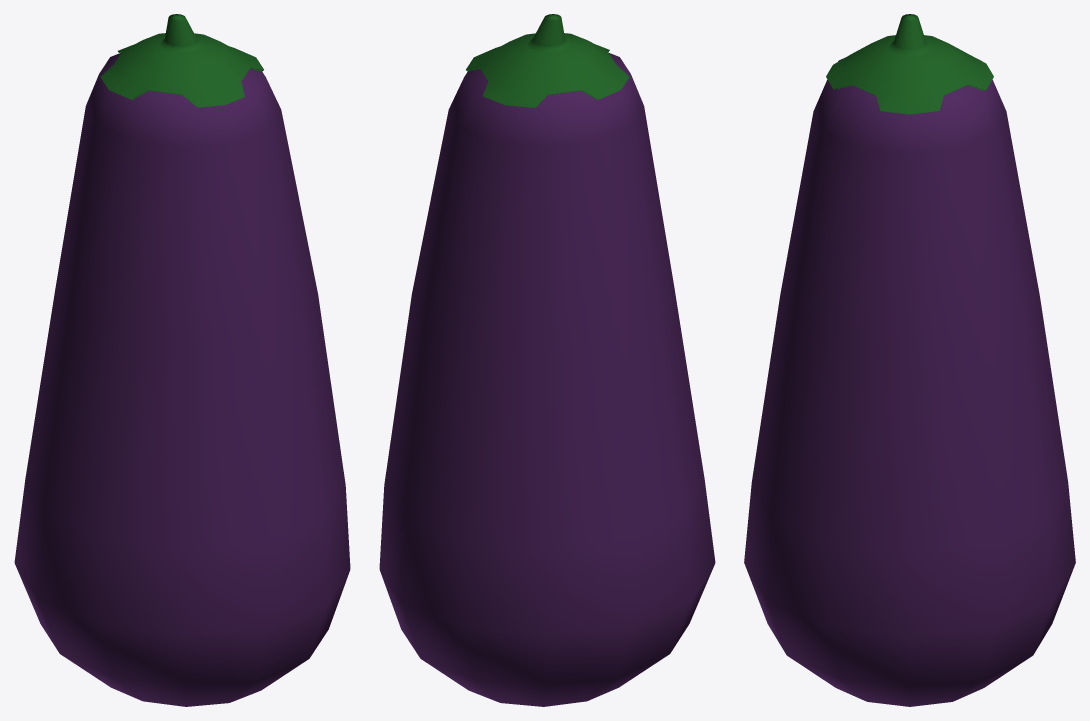
The model's file is eggplant.fbx.
3 renders of one model, left to right at view 1: azimuth 30°, elevation 25°; view 2: azimuth 150°, elevation 25°; view 3: azimuth 270°, elevation 25°, orthographic.
Parts seen in each view (by area): view 1: Eggplant; view 2: Eggplant; view 3: Eggplant.
Boxes of the visible parts, left/top/right/bottom form: Eggplant: left=14, top=14, right=350, bottom=706; Eggplant: left=379, top=14, right=715, bottom=706; Eggplant: left=744, top=14, right=1075, bottom=706.
Bounding box in the file's own units: 123 × 274 × 123.
